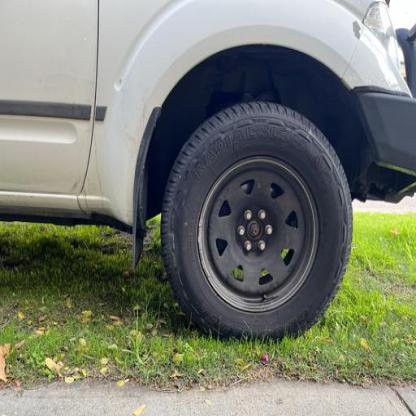Tire: (160, 98, 352, 346)
